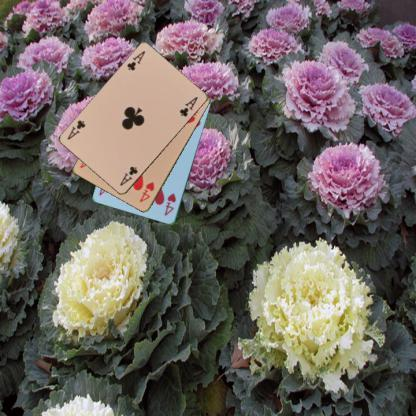4h: (137, 179, 155, 204), (162, 191, 177, 217)
Ac: (124, 49, 147, 72), (117, 164, 139, 187)
